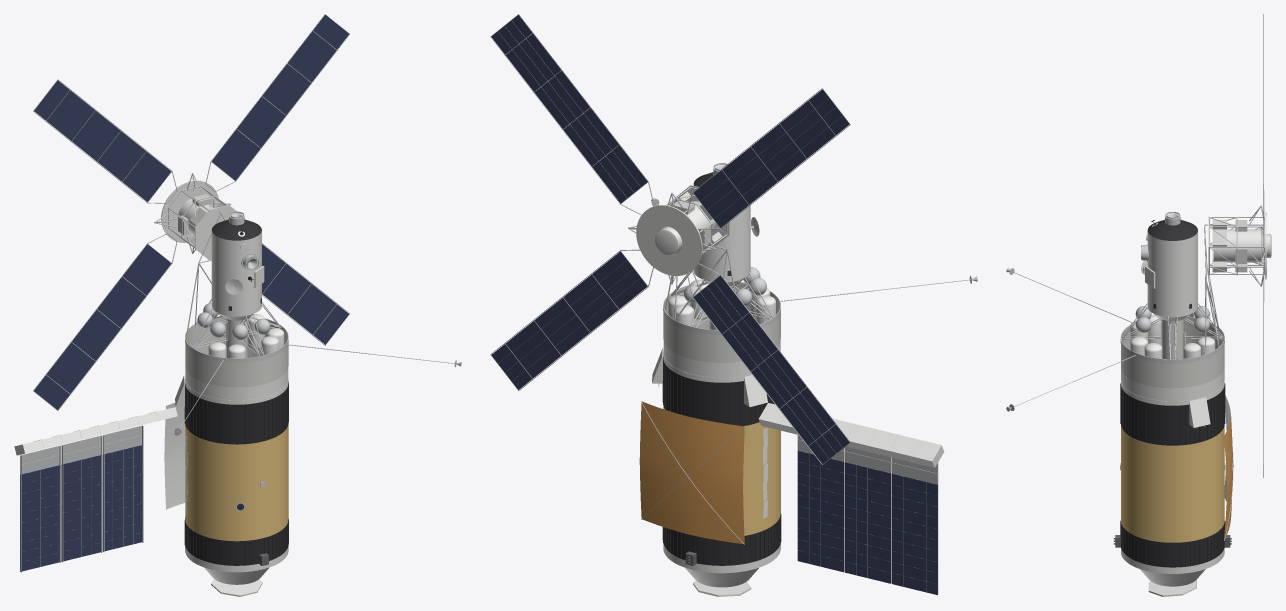
The model's file is workshop.glb.
3 views of the same model, side by side, from view 1: azimuth 30°, elevation 25°; view 2: azimuth 150°, elevation 25°; view 3: azimuth 270°, elevation 25° (orthographic). The views are drawn at different scales.
Visible parts, largest first — view 1: SAS_Wing1_Cells, OWS_HabitationWall, OWS_AftSkirtInner, ATM_Wing_3_Cells, ATM_Wing_1_Cells, ATM_Wing_4_Cells, SAS_Wing1_ModuleLines, ATM_Wing_2_Cells, FAS_InnerWallAndForwardDome, MDA_EarthObservationKit, ATM_Canister, Parasol_Underside (+12 smaller); view 2: SAS_Wing1_Cells, Parasol_Canopy, ATM_Wing_3_Cells, ATM_Wing_1_Cells, ATM_Wing_2_Cells, ATM_Wing_4_Cells, OWS_AftSkirtInner, ATM_Canister, OWS_HabitationWall, SAS_Wing1_BeamFairing, SAS_Wing1_ModuleLines, FAS_InnerWallAndForwardDome (+11 smaller); view 3: OWS_HabitationWall, OWS_AftSkirtInner, FAS_InnerWallAndForwardDome, MDA_EarthObservationKit, ATM_Canister, AM_Bellows, FAS_OxygenTanks, IU_Skin, OWS_SkirtBands, ATM_Outriggers, OWS_RefrigerationRadiator, ATM_RackEquipment (+7 smaller).
Part boxes in pixels (x1=…): SAS_Wing1_Cells: x1=20, y1=445, x2=141, y2=571; OWS_HabitationWall: x1=185, y1=424, x2=288, y2=541; OWS_AftSkirtInner: x1=184, y1=382, x2=288, y2=565; ATM_Wing_3_Cells: x1=34, y1=244, x2=171, y2=409; ATM_Wing_1_Cells: x1=211, y1=15, x2=348, y2=180; ATM_Wing_4_Cells: x1=34, y1=80, x2=171, y2=202; SAS_Wing1_ModuleLines: x1=20, y1=425, x2=143, y2=572; ATM_Wing_2_Cells: x1=262, y1=244, x2=348, y2=344; FAS_InnerWallAndForwardDome: x1=185, y1=316, x2=288, y2=387; MDA_EarthObservationKit: x1=211, y1=230, x2=264, y2=299; ATM_Canister: x1=161, y1=180, x2=239, y2=259; Parasol_Underside: x1=164, y1=402, x2=185, y2=509; SAS_Wing1_Cells: x1=797, y1=450, x2=937, y2=595; Parasol_Canopy: x1=639, y1=401, x2=744, y2=543; ATM_Wing_3_Cells: x1=693, y1=275, x2=849, y2=464; ATM_Wing_1_Cells: x1=491, y1=15, x2=647, y2=203; ATM_Wing_2_Cells: x1=491, y1=251, x2=647, y2=389; ATM_Wing_4_Cells: x1=693, y1=89, x2=849, y2=227; OWS_AftSkirtInner: x1=662, y1=357, x2=781, y2=565; ATM_Canister: x1=636, y1=185, x2=729, y2=275; OWS_HabitationWall: x1=663, y1=405, x2=780, y2=535; SAS_Wing1_BeamFairing: x1=758, y1=403, x2=944, y2=467; SAS_Wing1_ModuleLines: x1=797, y1=435, x2=938, y2=593; FAS_InnerWallAndForwardDome: x1=663, y1=282, x2=780, y2=362; OWS_HabitationWall: x1=1121, y1=426, x2=1224, y2=542; OWS_AftSkirtInner: x1=1120, y1=383, x2=1225, y2=567; FAS_InnerWallAndForwardDome: x1=1121, y1=316, x2=1224, y2=388; MDA_EarthObservationKit: x1=1141, y1=231, x2=1197, y2=300; ATM_Canister: x1=1208, y1=212, x2=1271, y2=279; AM_Bellows: x1=1122, y1=303, x2=1222, y2=359; FAS_OxygenTanks: x1=1130, y1=314, x2=1215, y2=358; IU_Skin: x1=1121, y1=368, x2=1224, y2=401; OWS_SkirtBands: x1=1121, y1=382, x2=1224, y2=573; ATM_Outriggers: x1=1209, y1=205, x2=1264, y2=286; OWS_RefrigerationRadiator: x1=1140, y1=569, x2=1205, y2=596; ATM_RackEquipment: x1=1212, y1=219, x2=1247, y2=272.
Bounding box in the file's own units: 26.73 × 35.71 × 16.89.
